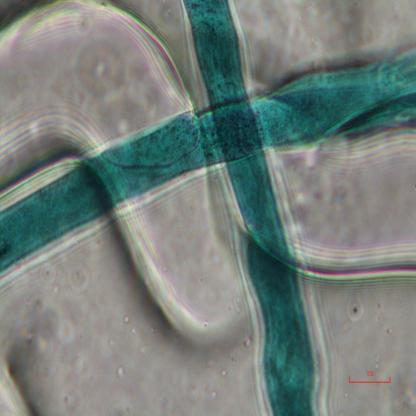Air bubble: (0, 3, 195, 121), (117, 196, 253, 346), (285, 139, 416, 291)
Background material: (0, 310, 54, 416), (184, 346, 233, 399), (385, 354, 416, 415), (58, 260, 95, 294), (344, 292, 365, 330), (59, 314, 80, 350), (109, 362, 124, 378)
Microfibre: (0, 48, 416, 277), (183, 0, 329, 414)
